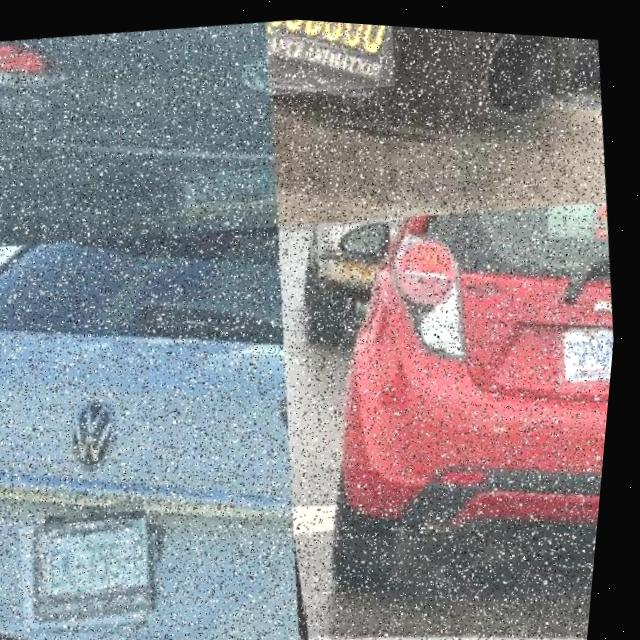LicensePlate: (34, 515, 160, 628), (269, 16, 392, 82), (171, 167, 283, 224), (563, 325, 618, 379)
